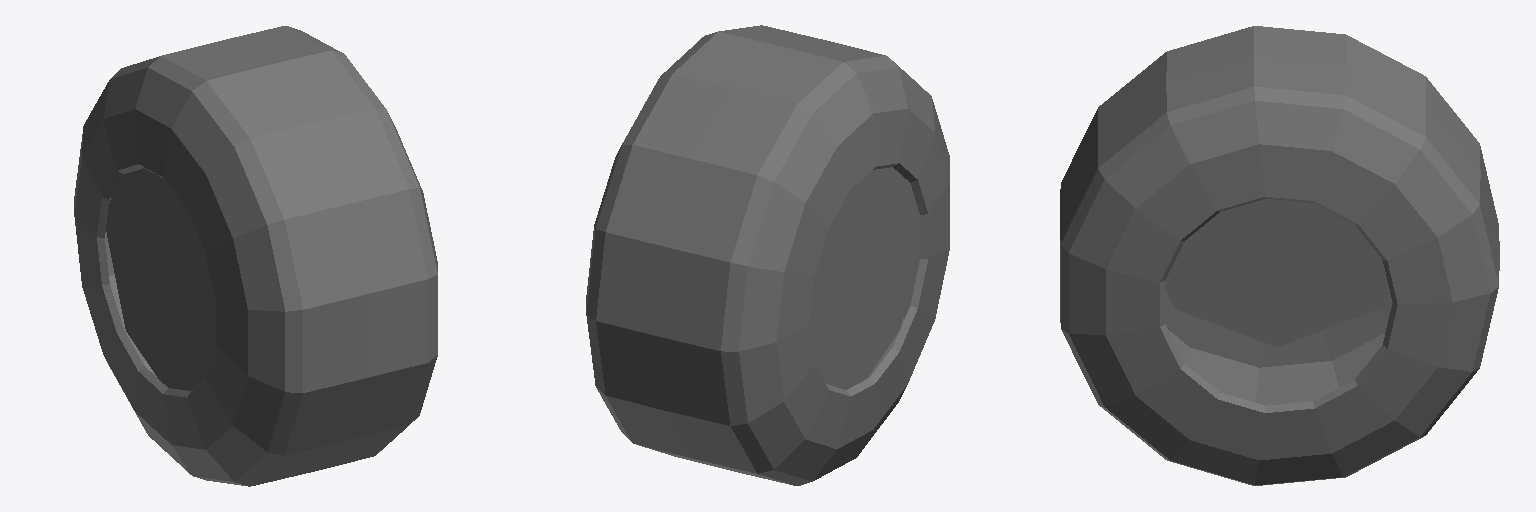
Rendered from Wheel.obj.
The picture shows the model from 3 angles: view 1: azimuth 30°, elevation 25°; view 2: azimuth 150°, elevation 25°; view 3: azimuth 270°, elevation 25°; orthographic projection.
Parts seen in each view (by area): view 1: Wheel2 Jeep; view 2: Wheel2 Jeep; view 3: Wheel2 Jeep.
Boxes of the visible parts, x1=… form: Wheel2 Jeep: x1=74, y1=26, x2=437, y2=486; Wheel2 Jeep: x1=586, y1=25, x2=949, y2=485; Wheel2 Jeep: x1=1060, y1=26, x2=1499, y2=485.
Bounding box in the file's own units: 1.05 × 2.01 × 2.